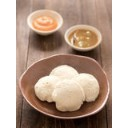idly: (54, 79, 84, 111), (29, 75, 60, 101), (75, 72, 99, 102), (53, 64, 79, 82)
